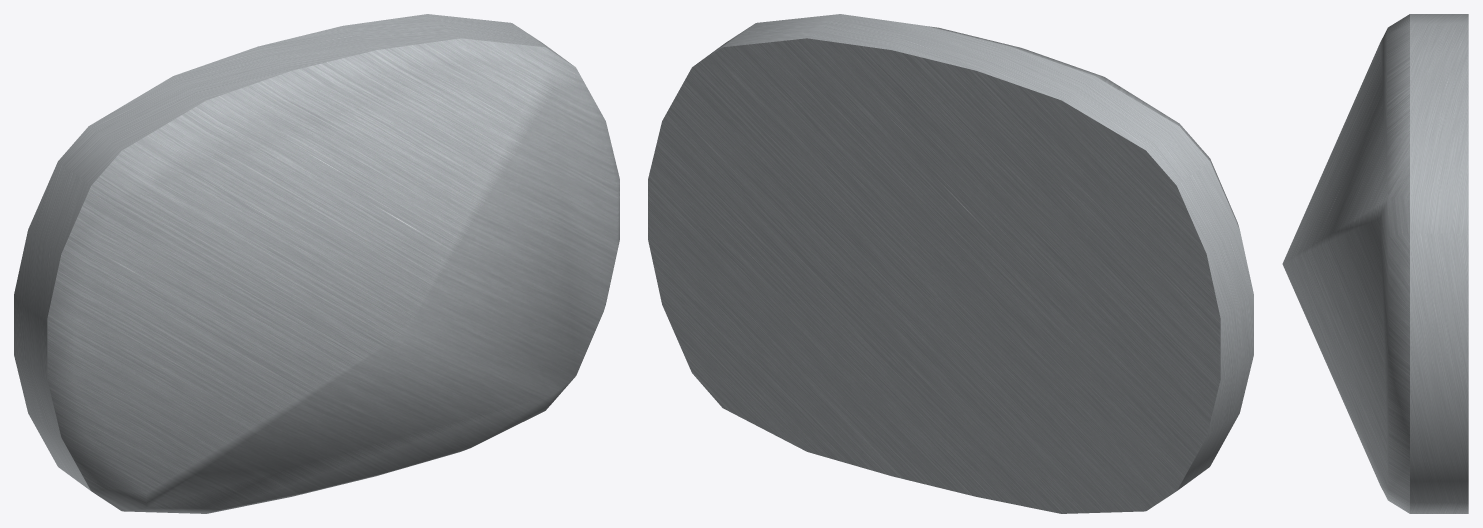
The model's file is capteur_chute.FBX.
3 views of the same model, side by side, from view 1: azimuth 30°, elevation 25°; view 2: azimuth 150°, elevation 25°; view 3: azimuth 270°, elevation 25° (orthographic). The views are drawn at different scales.
Visible parts, largest first — view 1: Box001; view 2: Box001; view 3: Box001.
Part boxes in pixels (x1,y1,x2,y2): Box001: (14,14,619,513); Box001: (648,14,1253,513); Box001: (1282,14,1468,513).
Bounding box in the file's own units: 0.0781 × 0.0555 × 0.0249.
